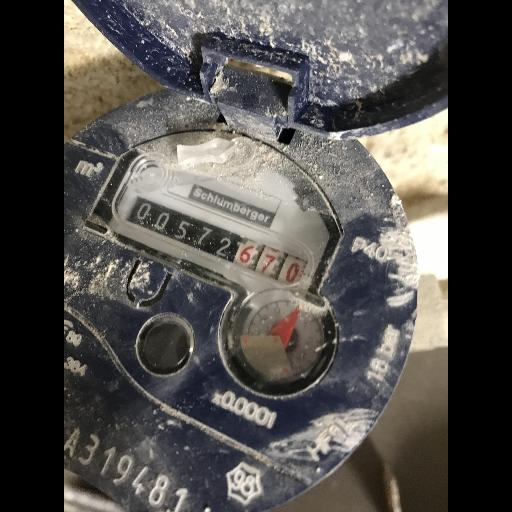0: (277, 253, 308, 289), (129, 196, 158, 229), (149, 204, 178, 236)
2: (210, 228, 239, 261)
5: (168, 212, 197, 245)
6: (232, 237, 262, 271)
7: (252, 244, 286, 283), (189, 220, 217, 253)
border_water_meter_number: (105, 173, 321, 298)
